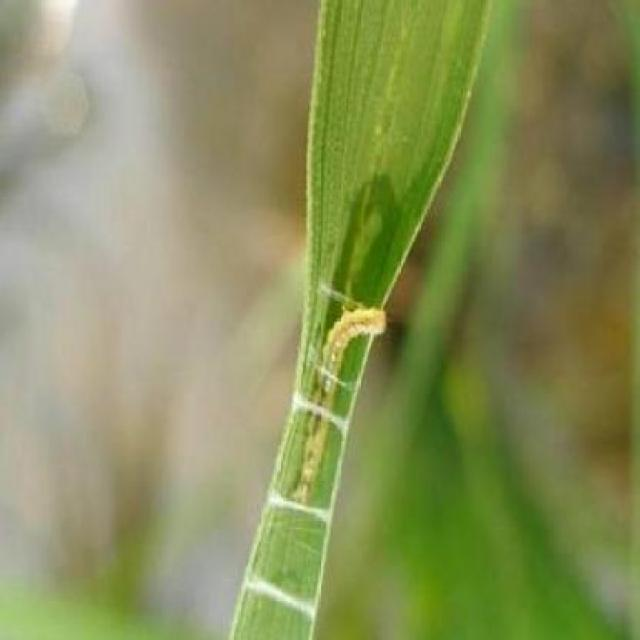leaf-folder: (251, 250, 443, 516)
